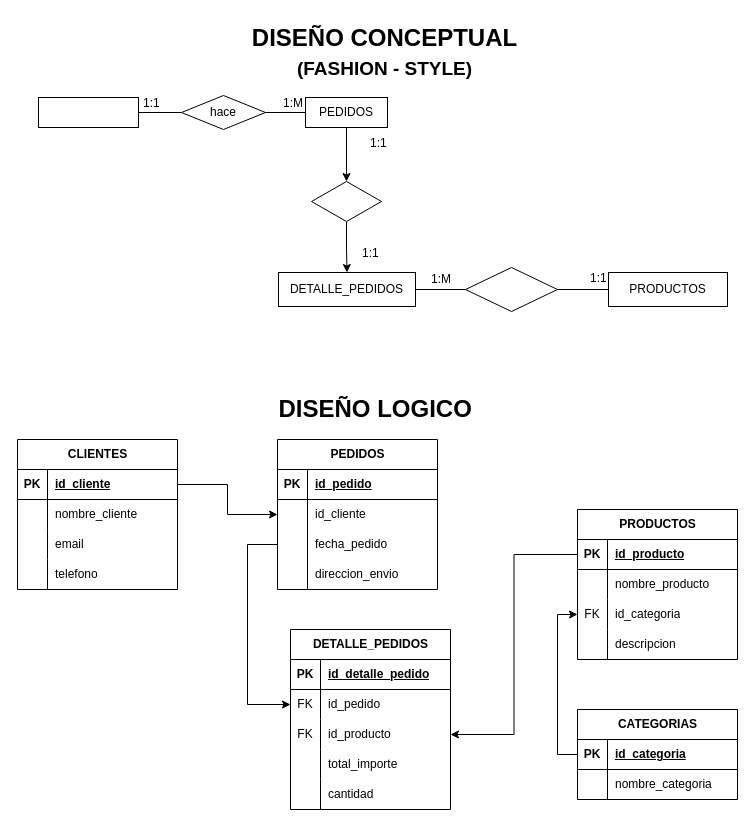
Image size: 755x827. Some labels were removed from this diagram. Each missing label, with the centre of its shape:
CLIENTE: (88,112)
hay: (511,289)
tiene: (346,201)
